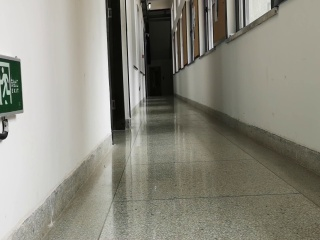room: (98, 2, 130, 138)
